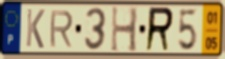3: (83, 6, 109, 52)
5: (177, 8, 200, 53)
H: (109, 4, 140, 54)
K: (25, 7, 46, 50)
R: (143, 5, 175, 53), (48, 9, 75, 49)
